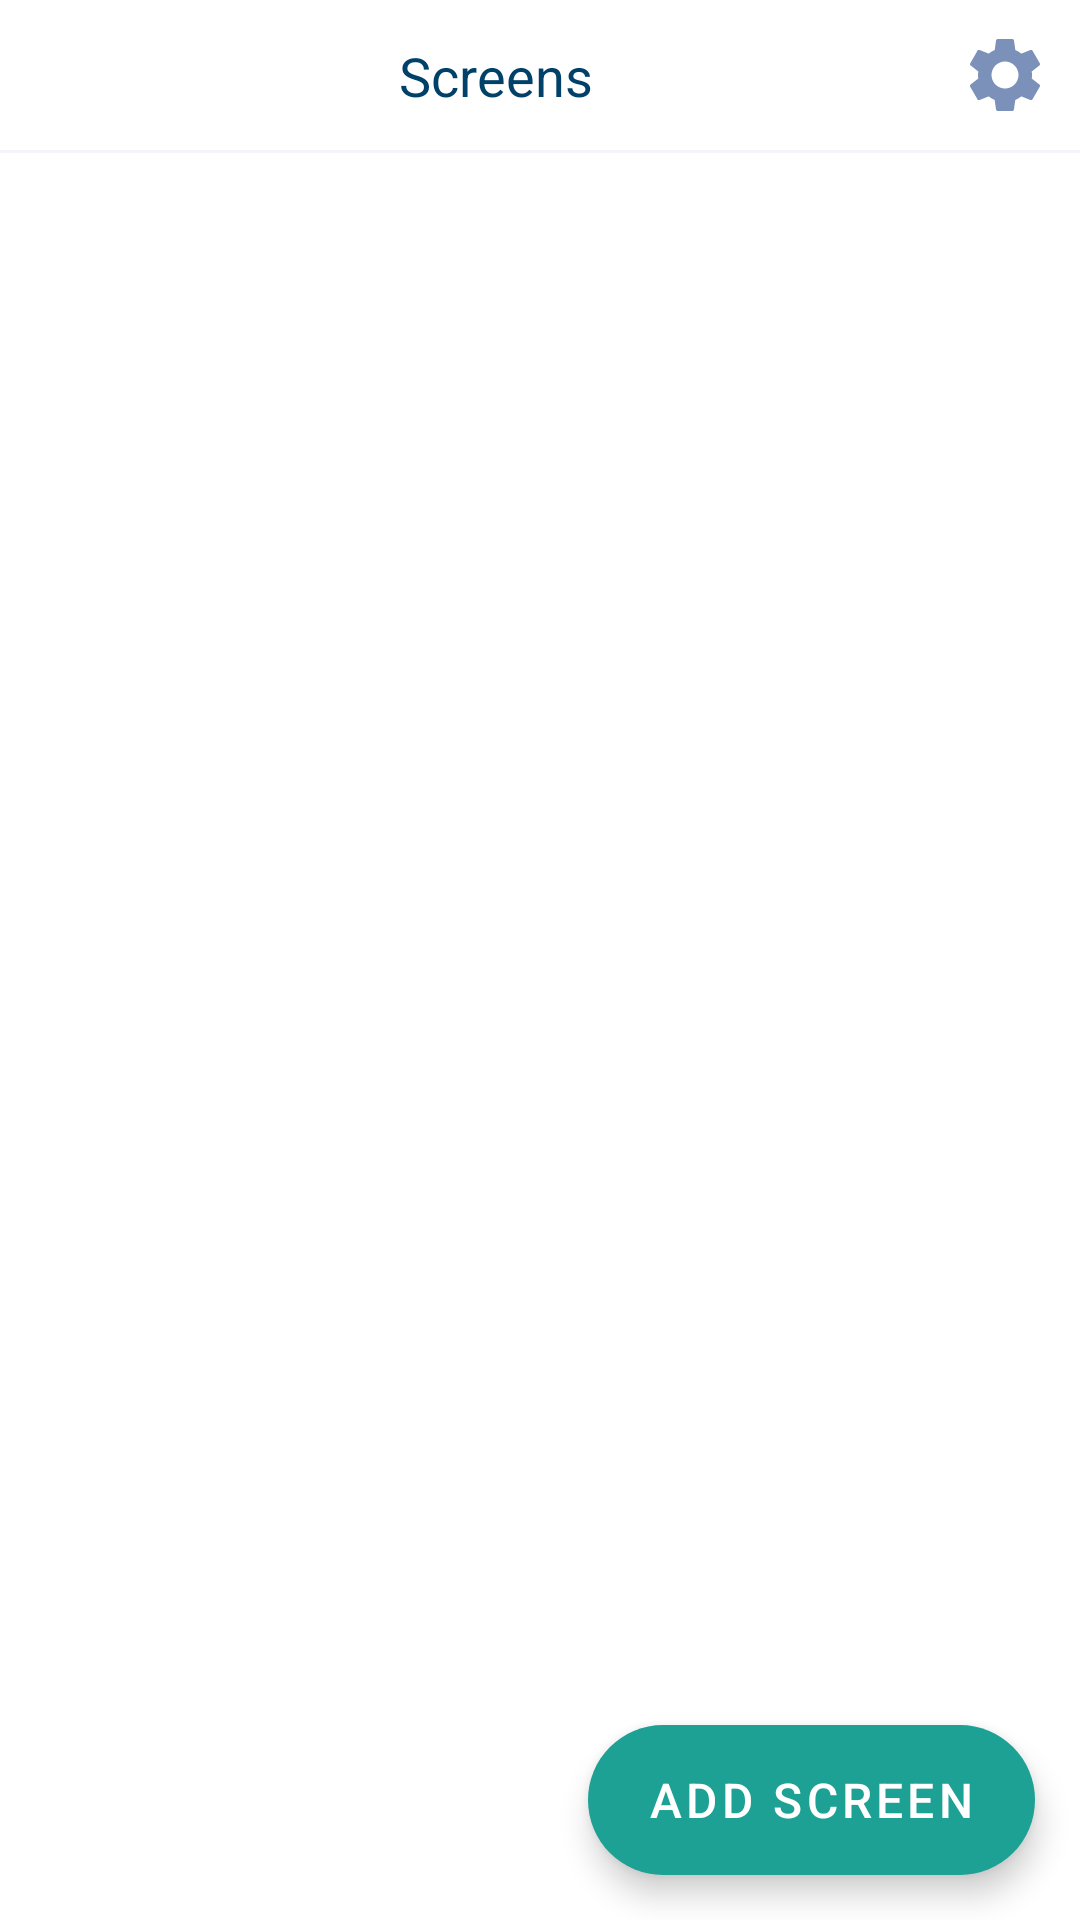

Icon click points for this 1080 x 1920 phone screenshot, format point (x, y):
settings: point (1005, 75)
